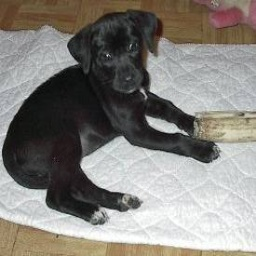dog: (5, 9, 220, 237)
